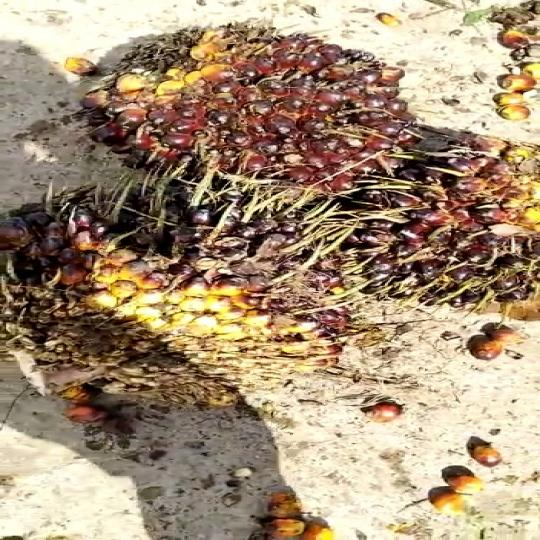kurang masak: (1, 194, 393, 434), (59, 17, 410, 196), (368, 139, 540, 326)
